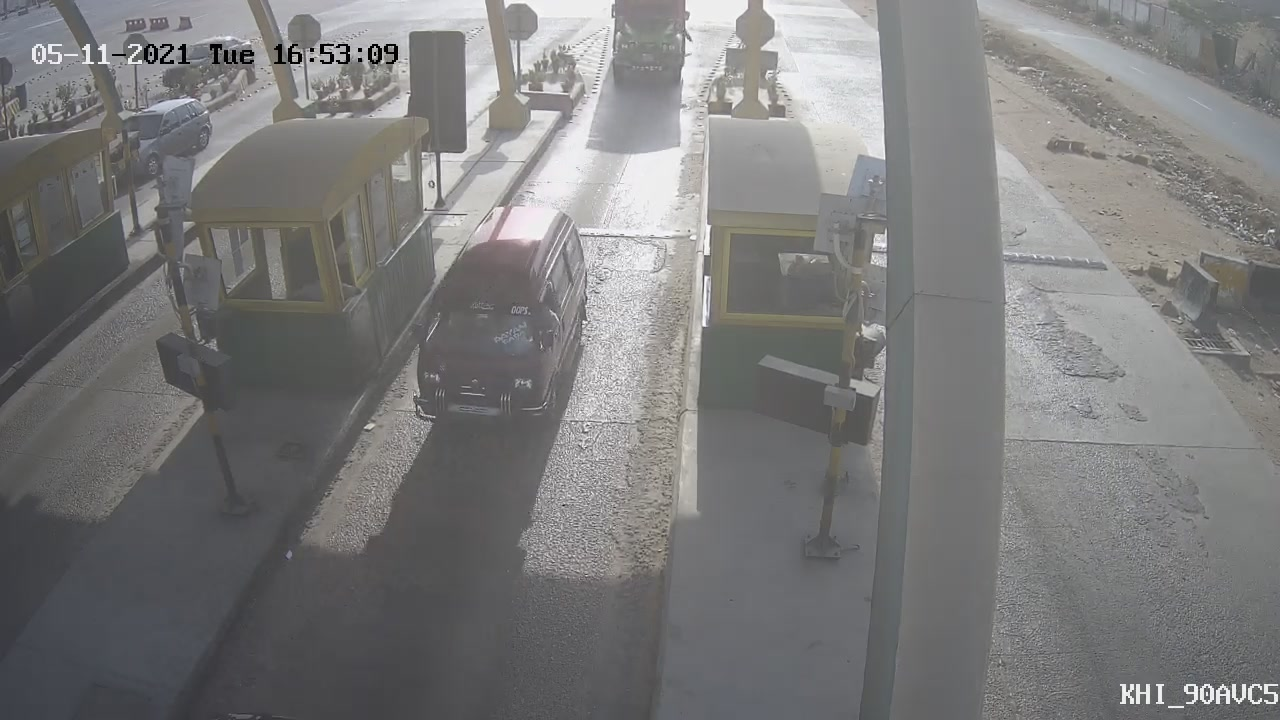F1: (392, 190, 611, 448)
